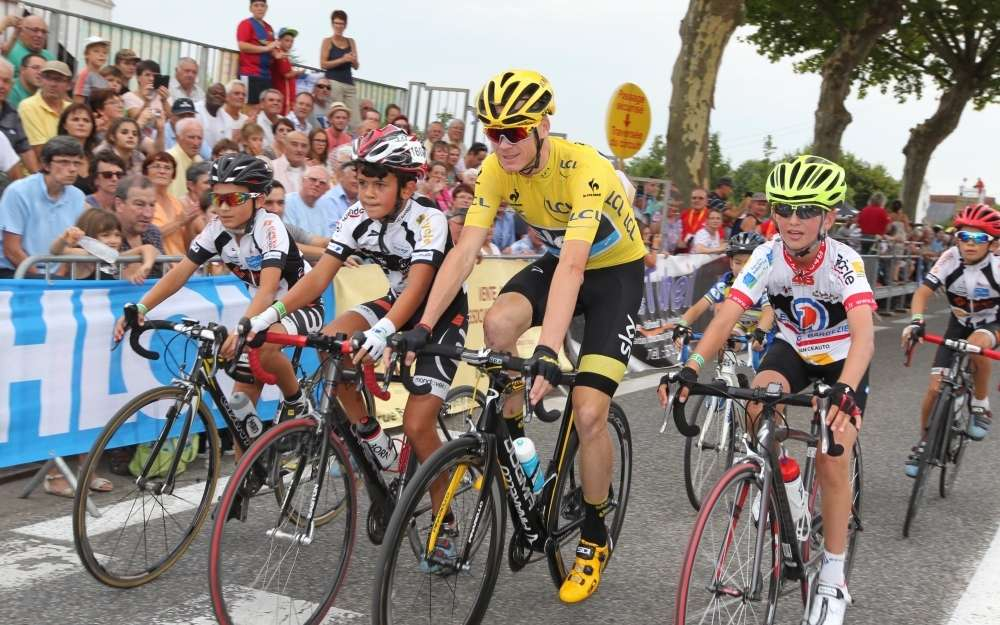without_mask: (486, 123, 537, 173), (776, 198, 822, 245), (216, 181, 250, 230), (362, 172, 396, 215), (124, 193, 156, 233), (962, 229, 988, 263), (95, 227, 123, 253), (56, 151, 78, 184), (26, 21, 48, 53), (118, 122, 142, 151), (182, 127, 205, 153), (307, 175, 330, 201), (69, 110, 91, 137), (44, 69, 65, 97), (97, 169, 120, 194), (142, 69, 167, 91), (288, 135, 308, 161), (152, 163, 172, 185), (210, 87, 228, 111), (246, 131, 262, 156), (119, 53, 137, 74), (335, 107, 350, 132), (91, 45, 106, 69), (690, 193, 709, 211), (232, 85, 247, 107), (448, 123, 465, 142), (181, 63, 194, 84), (367, 111, 384, 127), (455, 191, 472, 207), (433, 143, 446, 163), (317, 83, 331, 101), (332, 15, 346, 32), (268, 93, 280, 111), (302, 99, 313, 117), (434, 168, 444, 185), (434, 124, 444, 140), (254, 1, 265, 13)
